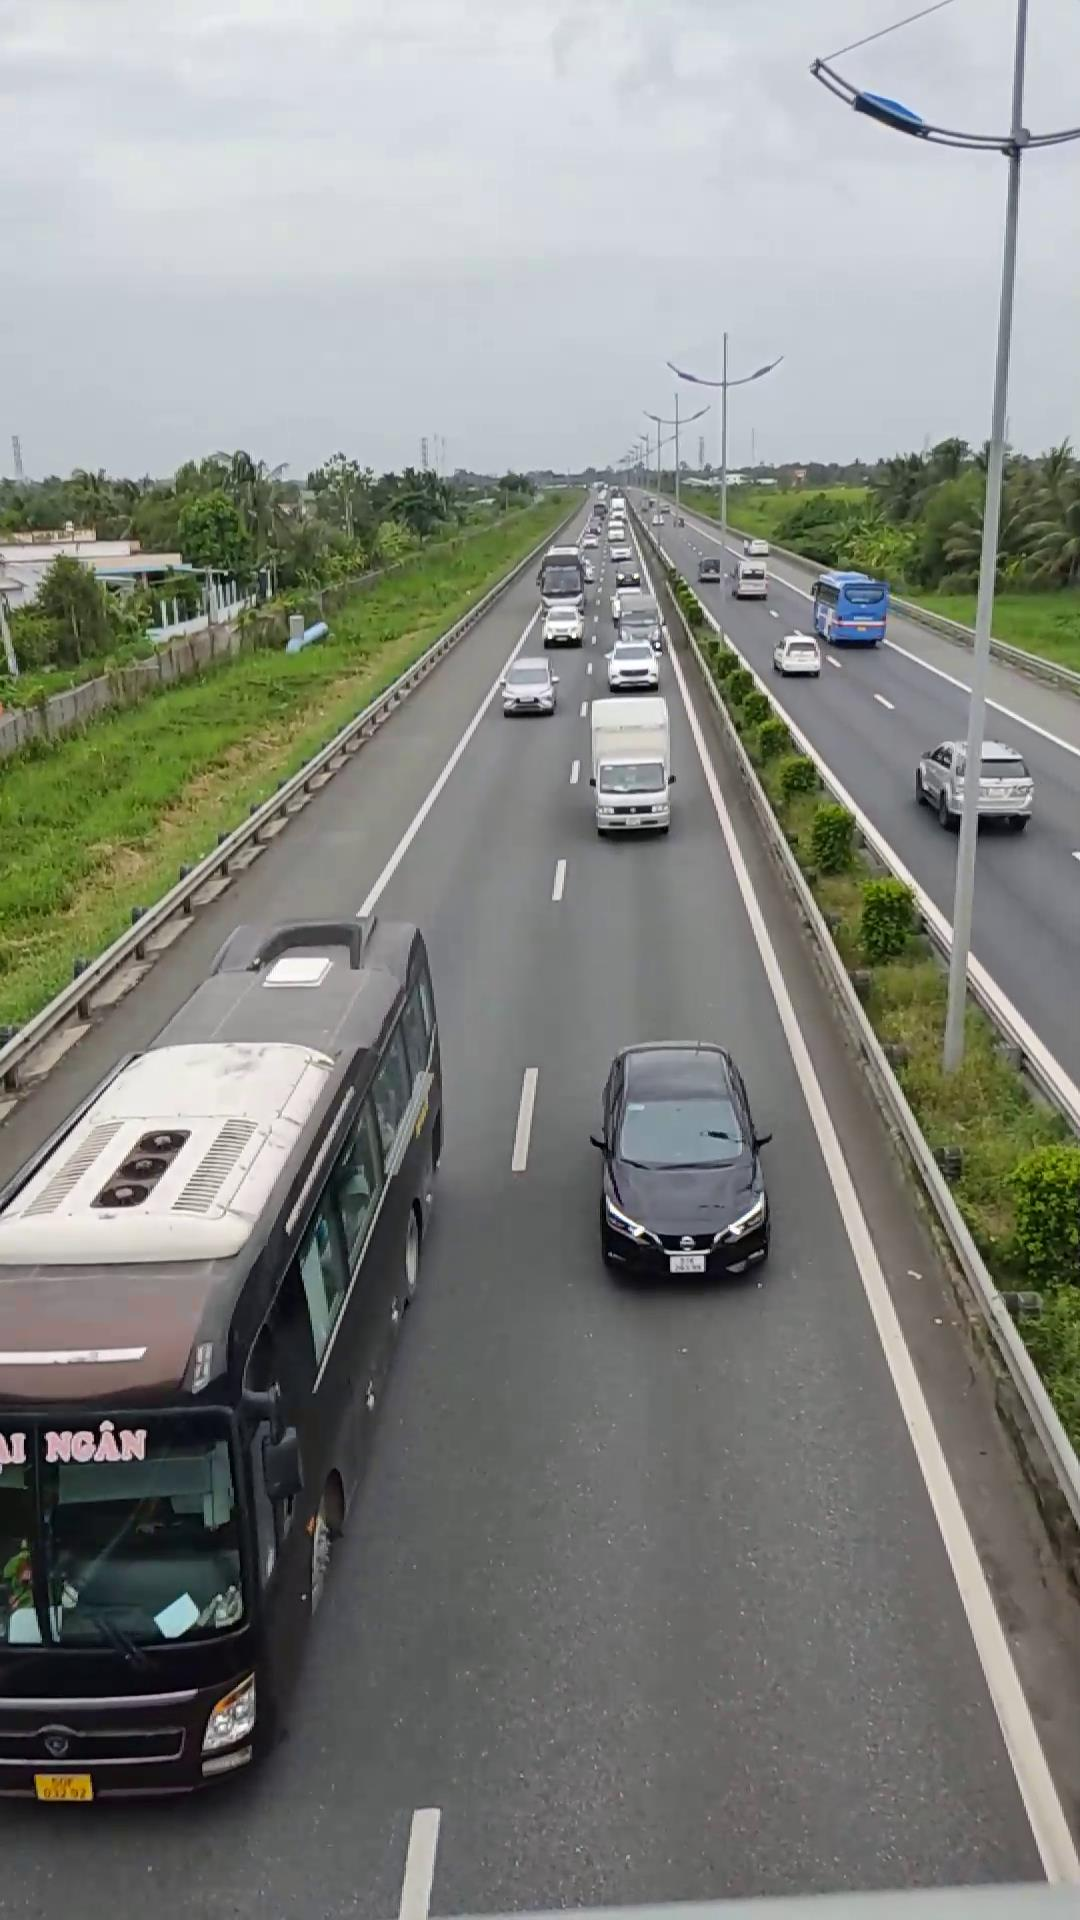bus: (0, 915, 443, 1803)
car: (589, 1040, 774, 1283), (914, 738, 1035, 831)
truck: (580, 694, 678, 835)
